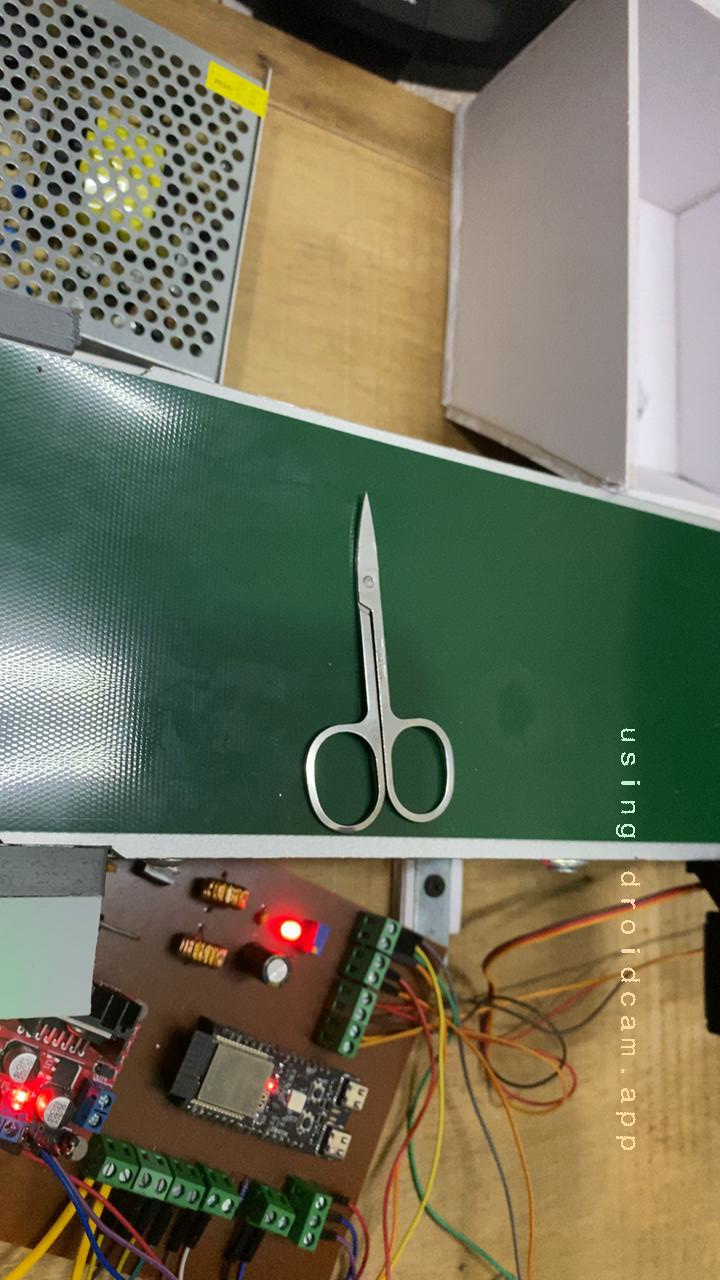scissor: (268, 475, 480, 844)
